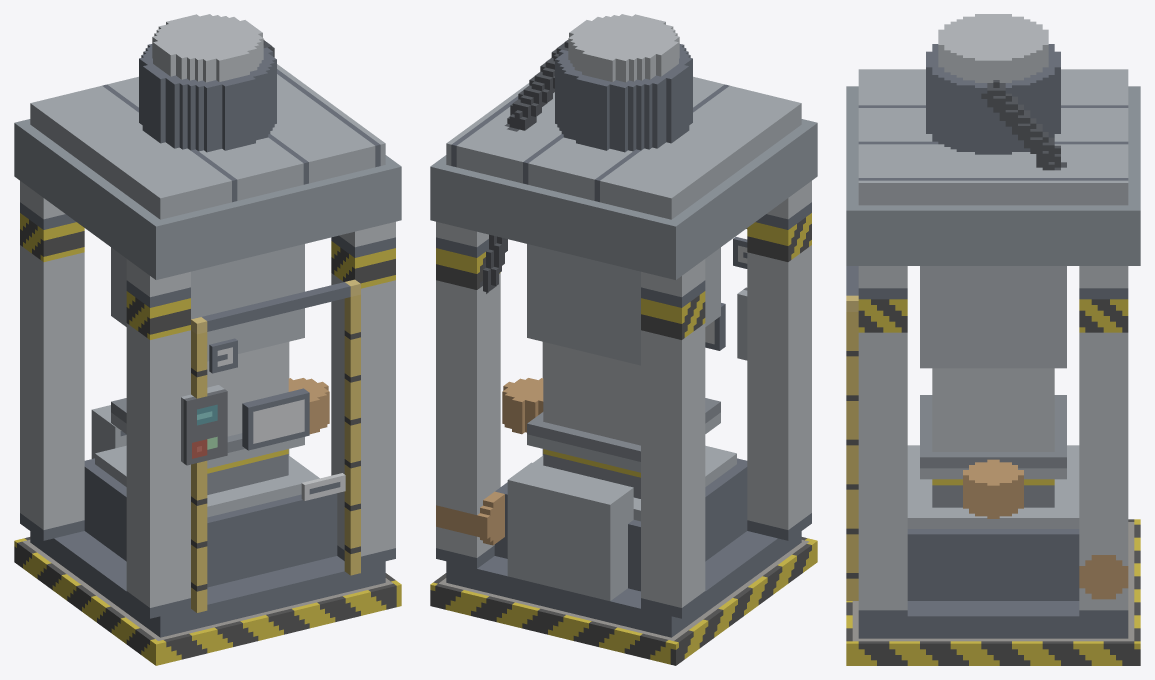
Rendered from hydraulic_press.glb.
3 renders of one model, left to right at view 1: azimuth 30°, elevation 25°; view 2: azimuth 150°, elevation 25°; view 3: azimuth 270°, elevation 25°, orthographic. The views are drawn at different scales.
Parts seen in each view (by area): view 1: hydraulic_press; view 2: hydraulic_press; view 3: hydraulic_press.
Part boxes in pixels (left/top/right/bottom): hydraulic_press: left=14, top=14, right=401, bottom=665; hydraulic_press: left=430, top=14, right=817, bottom=665; hydraulic_press: left=846, top=14, right=1140, bottom=665.
Bounding box in the file's own units: 1.5 × 3.19 × 1.5.
